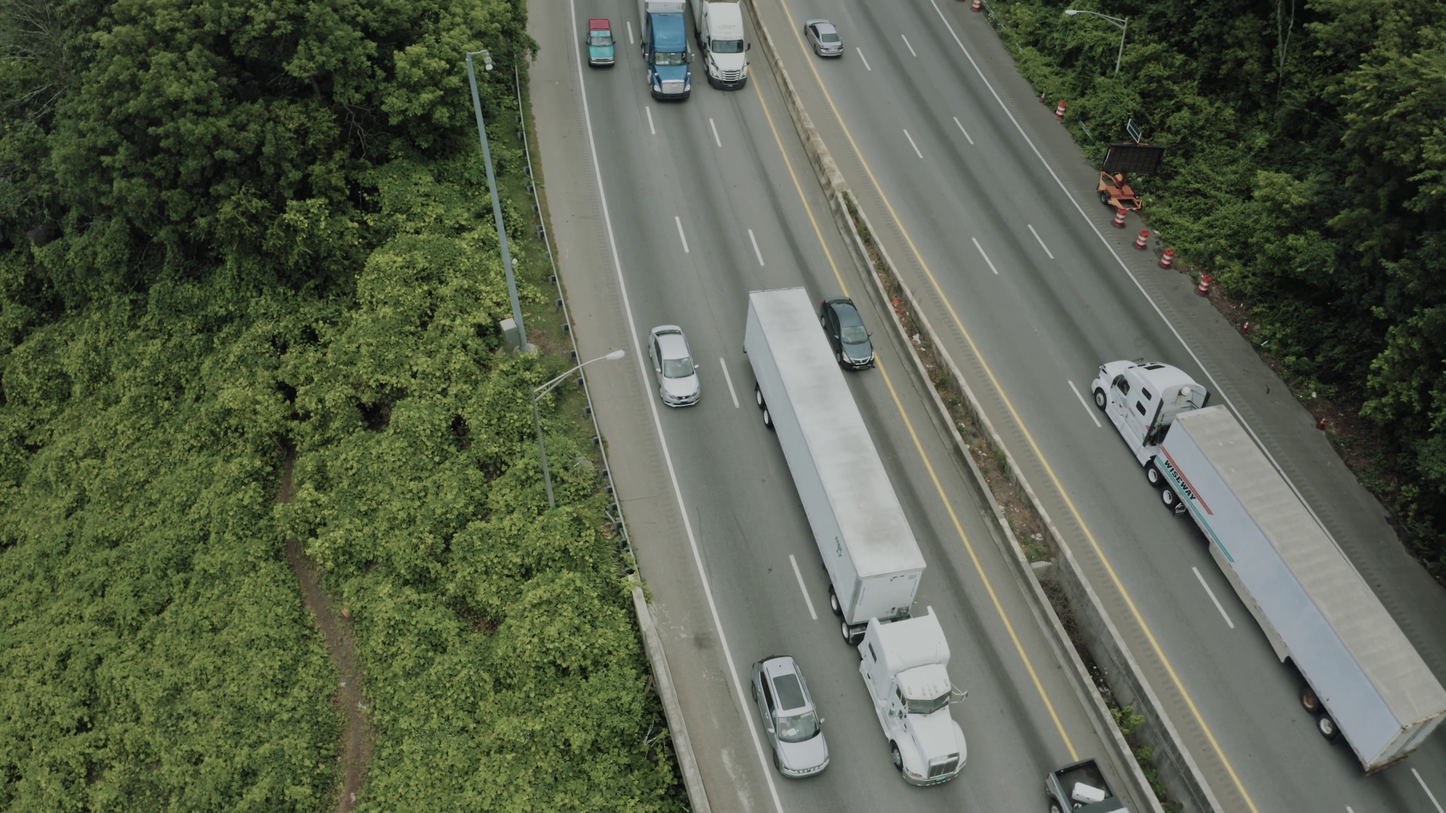Vehicle: (857, 604, 969, 788), (1091, 386, 1205, 536), (744, 647, 836, 787), (1090, 358, 1205, 433), (1157, 362, 1252, 433), (638, 0, 695, 102), (697, 0, 751, 91), (1044, 757, 1126, 813), (648, 324, 701, 408), (818, 294, 874, 369), (803, 19, 844, 58), (585, 19, 616, 67)
